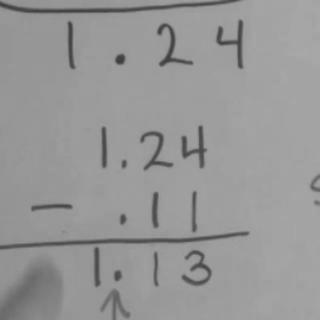.: (112, 51, 128, 68), (111, 266, 124, 284), (116, 211, 129, 226), (119, 156, 129, 170)
1: (62, 20, 77, 70), (97, 127, 112, 166), (147, 249, 161, 287), (187, 191, 201, 229), (89, 241, 100, 288), (149, 188, 161, 230)
2: (156, 22, 194, 70), (137, 130, 173, 170)
3: (183, 248, 214, 287)
4: (217, 19, 244, 68), (182, 126, 210, 168)
